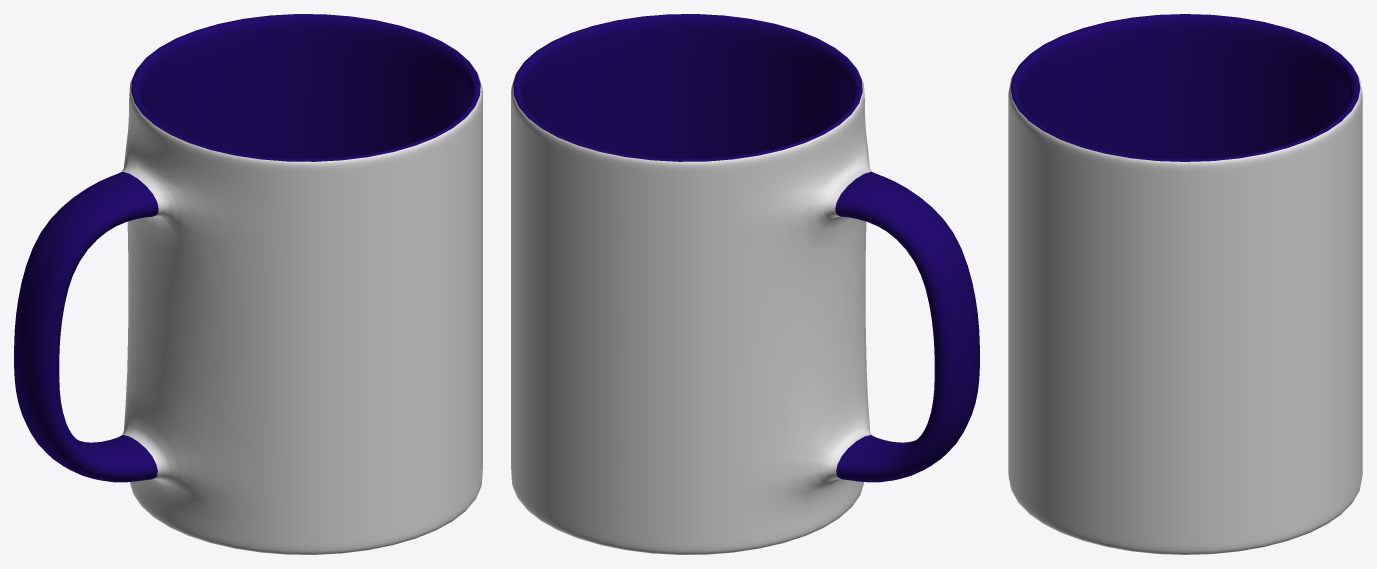
File: mug_1.glb
3 renders of one model, left to right at view 1: azimuth 30°, elevation 25°; view 2: azimuth 150°, elevation 25°; view 3: azimuth 270°, elevation 25°, orthographic.
Visible parts, largest first — view 1: Mug_1; view 2: Mug_1; view 3: Mug_1.
Part boxes in pixels (x1,y1,x2,y2): Mug_1: (14,14,482,554); Mug_1: (511,14,979,554); Mug_1: (1008,14,1362,554).
Size of the model in its own units: 0.104 by 0.09 by 0.0731.
Materials: 2 (1 with a texture image).
